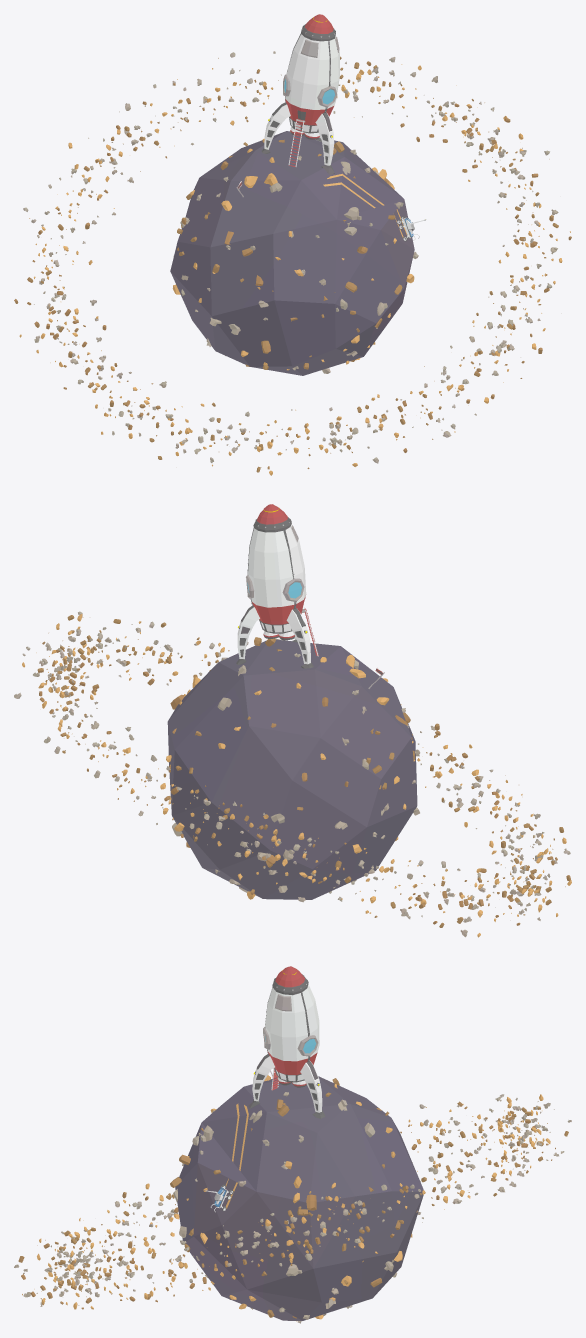
3 views of the same model, one above another, from view 1: azimuth 30°, elevation 25°; view 2: azimuth 150°, elevation 25°; view 3: azimuth 270°, elevation 25° (orthographic). The views are drawn at different scales.
Parts seen in each view (by area): view 1: planet.001; view 2: planet.001; view 3: planet.001.
Part boxes in pixels (bbox=[...]): planet.001: bbox=[14, 14, 571, 475]; planet.001: bbox=[14, 504, 571, 937]; planet.001: bbox=[14, 966, 571, 1323].
Size of the model in its own units: 30.55 by 22.91 by 31.61.
1 material, 1 textured.
